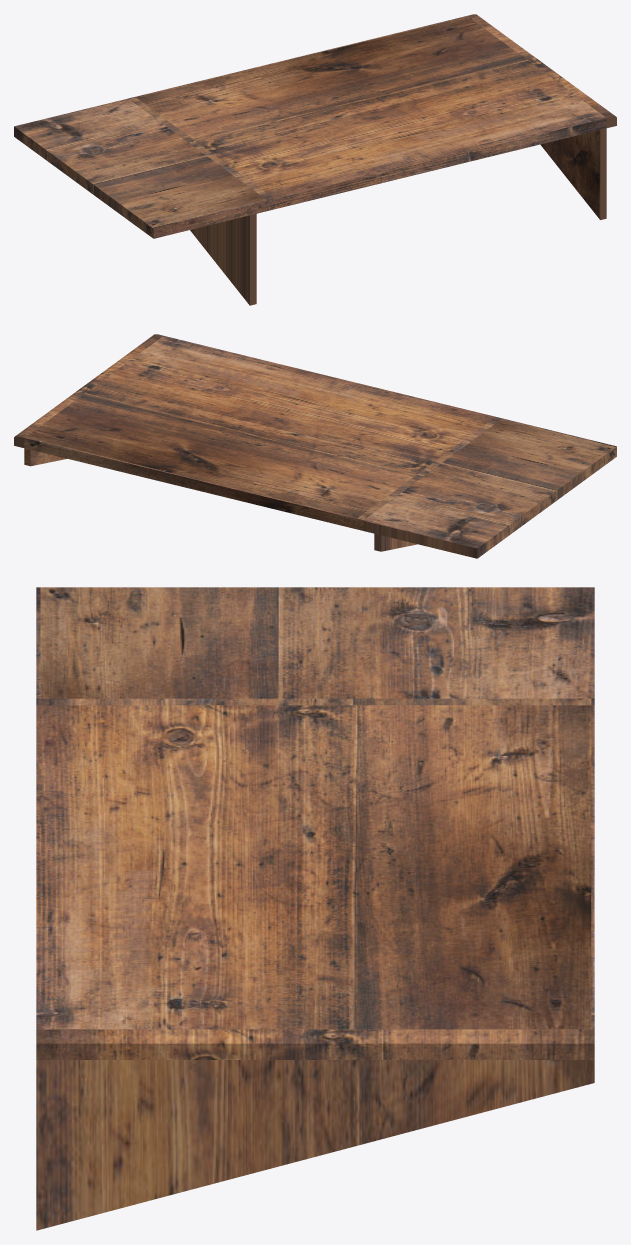
The model's file is computer desk.fbx.
The picture shows the model from 3 angles, top to bottom: view 1: azimuth 30°, elevation 25°; view 2: azimuth 150°, elevation 25°; view 3: azimuth 270°, elevation 25°; orthographic projection. The views are drawn at different scales.
Visible parts, largest first — view 1: 平面.010; view 2: 平面.010; view 3: 平面.010.
Boxes of the visible parts, bbox=[...] form: 平面.010: bbox=[14, 14, 616, 305]; 平面.010: bbox=[14, 334, 616, 558]; 平面.010: bbox=[36, 587, 594, 1230].
Size of the model in its own units: 290 by 60.23 by 151.
1 material, 1 textured.
